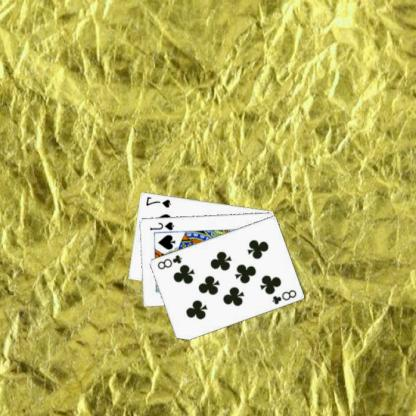7S: (145, 194, 173, 209)
8C: (271, 286, 299, 306), (156, 252, 185, 271)
JS: (149, 219, 177, 231)
